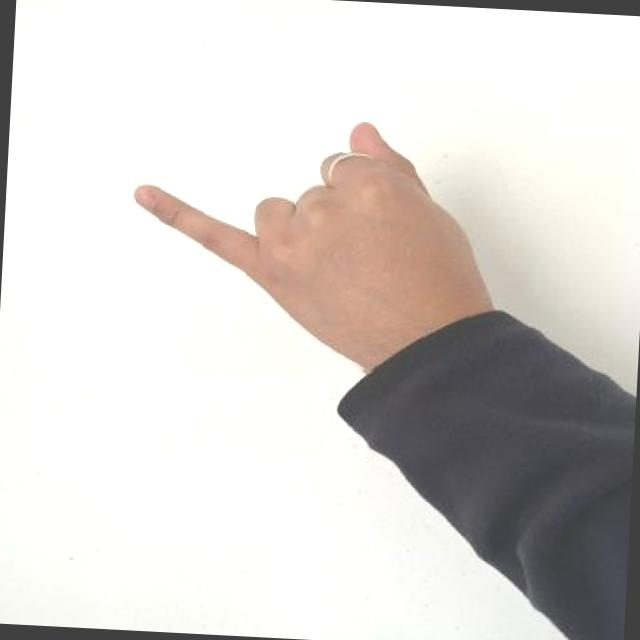J: (112, 106, 501, 380)
